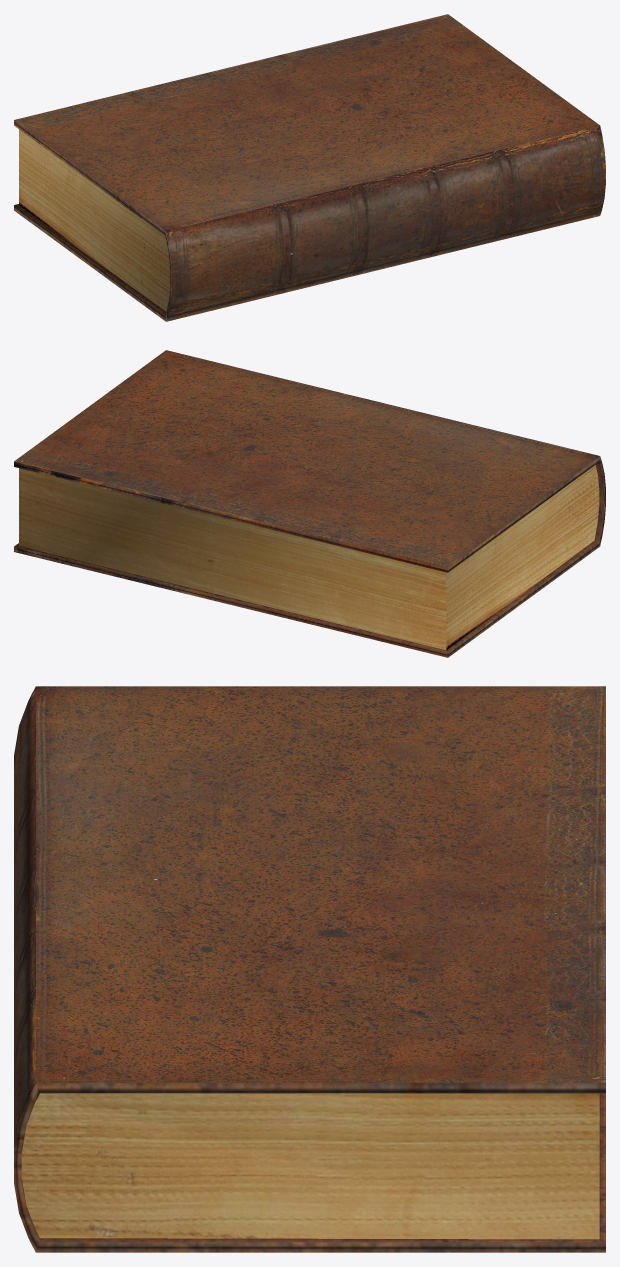
The model's file is Book_9.obj.
3 views of the same model, one above another, from view 1: azimuth 30°, elevation 25°; view 2: azimuth 150°, elevation 25°; view 3: azimuth 270°, elevation 25° (orthographic). The views are drawn at different scales.
Parts seen in each view (by area): view 1: Book.003_Cube.008; view 2: Book.003_Cube.008; view 3: Book.003_Cube.008.
Part boxes in pixels (box(x1,y1,x2,y2)): Book.003_Cube.008: box(14, 14, 605, 321); Book.003_Cube.008: box(14, 350, 605, 657); Book.003_Cube.008: box(14, 686, 605, 1252).
Size of the model in its own units: 2.66 by 0.5301 by 1.68.
